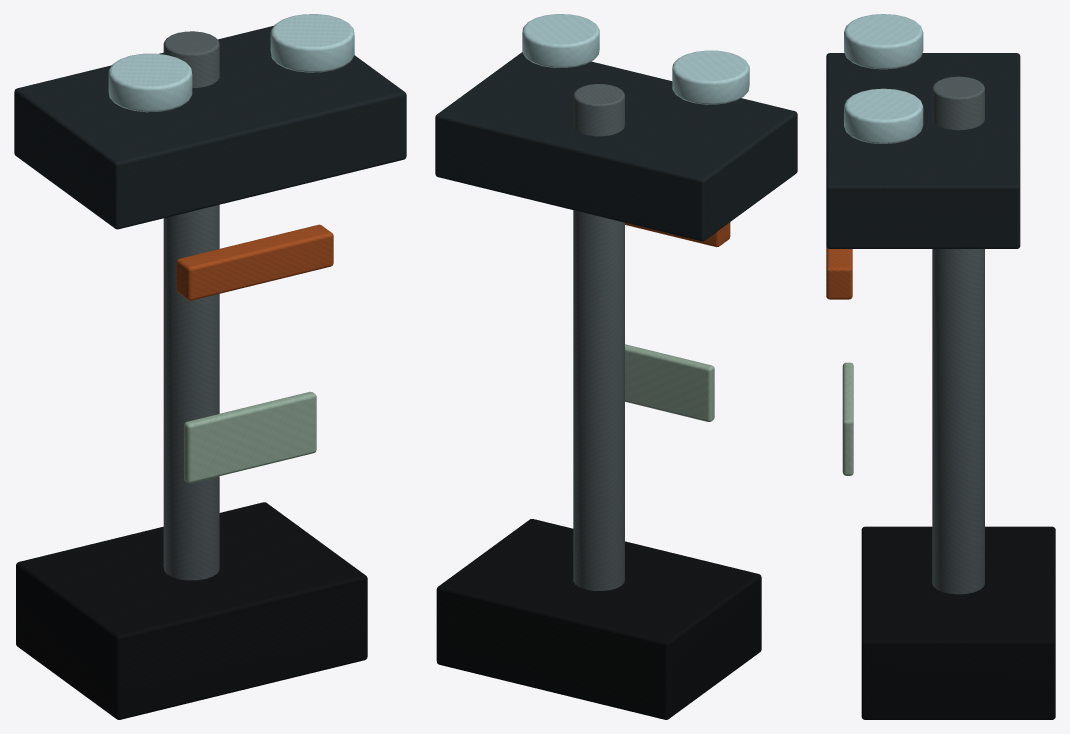
File: EyewashStation.fbx
3 renders of one model, left to right at view 1: azimuth 30°, elevation 25°; view 2: azimuth 150°, elevation 25°; view 3: azimuth 270°, elevation 25°, orthographic. The views are drawn at different scales.
Parts seen in each view (by area): view 1: EyewashStation_Mesh; view 2: EyewashStation_Mesh; view 3: EyewashStation_Mesh.
Part boxes in pixels (box(x1,y1,x2,y2)): EyewashStation_Mesh: box(14, 14, 406, 719); EyewashStation_Mesh: box(435, 14, 797, 719); EyewashStation_Mesh: box(826, 14, 1055, 719).
Bounding box in the file's own units: 72 × 149 × 52.
